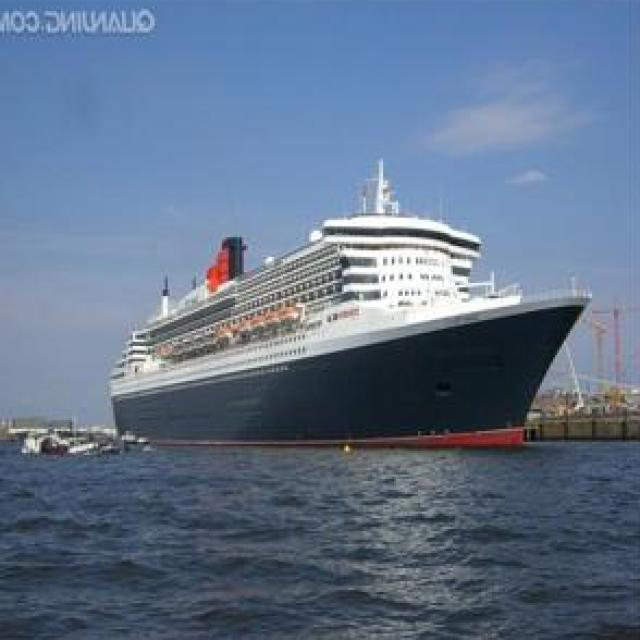passenger ship: (105, 176, 598, 449)
